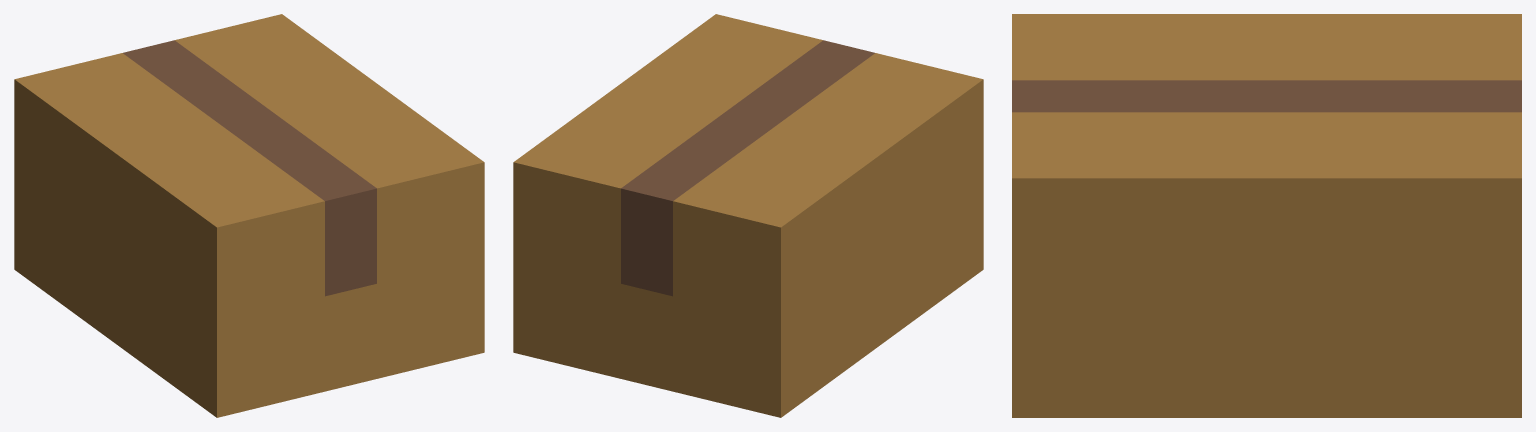
Rendered from cardbox2.fbx.
3 renders of one model, left to right at view 1: azimuth 30°, elevation 25°; view 2: azimuth 150°, elevation 25°; view 3: azimuth 270°, elevation 25°, orthographic. The views are drawn at different scales.
Visible parts, largest first — view 1: Cube; view 2: Cube; view 3: Cube.
Part boxes in pixels (x1=…): Cube: x1=14, y1=14, x2=484, y2=417; Cube: x1=513, y1=14, x2=983, y2=417; Cube: x1=1012, y1=14, x2=1521, y2=417.
Size of the model in its own units: 206 by 140 by 270.
